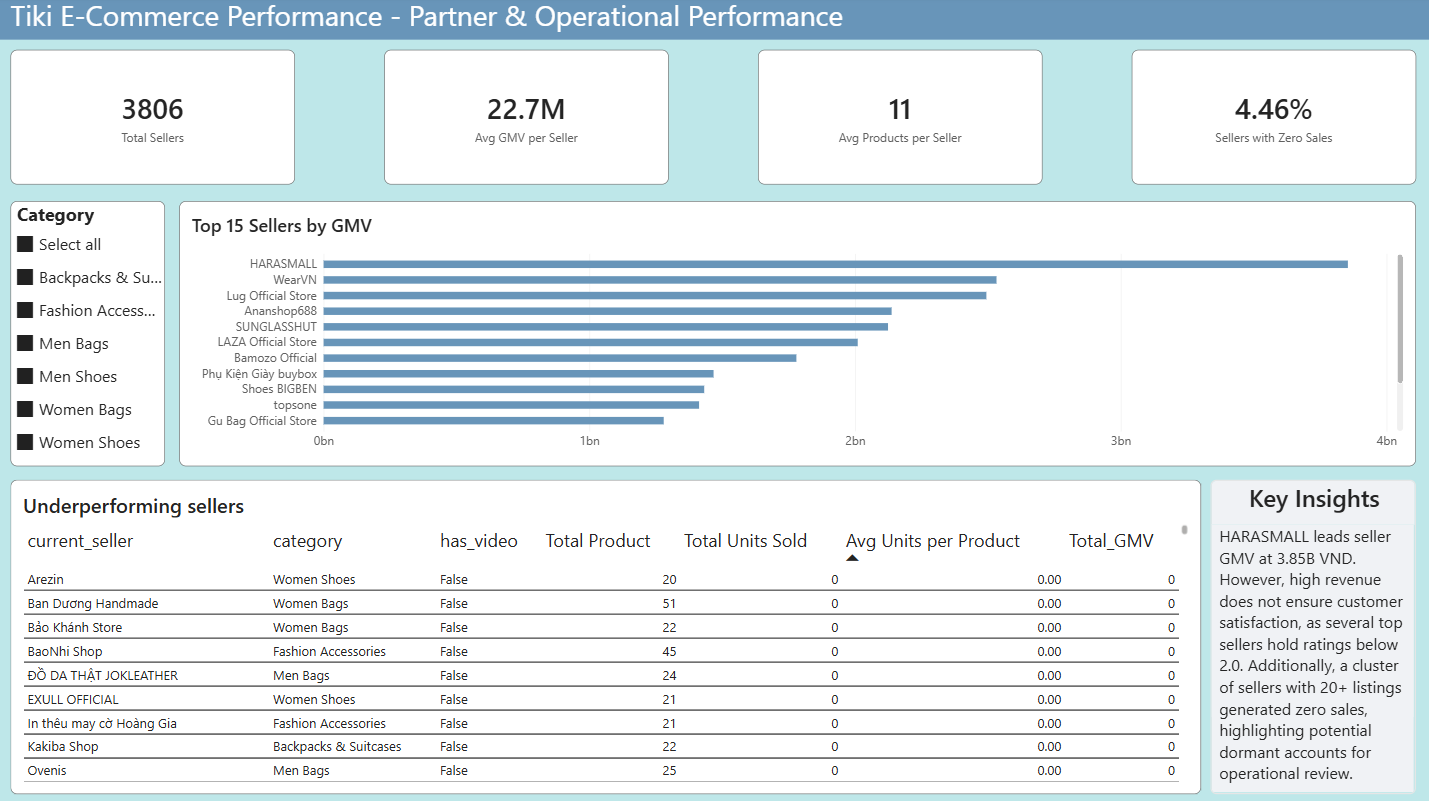

The page's visual inventory and layout, read from the dashboard file:
{"tool":"powerbi","page":{"name":"Partner & Operational Performance","canvas":[1920,1080],"ordinal":3},"visuals":[{"type":"shape","title":"Key Insights","box":[1620,646,274,420],"z":500},{"type":"shape","box":[0,0,1920,58],"z":1000},{"type":"textbox","box":[16,0,1200,72],"z":2000},{"type":"card","fields":{"Values":["tiki_products_cleaned.Top Seller GMV Share"]},"box":[1514,72,380,180],"z":3000},{"type":"card","fields":{"Values":["tiki_products_cleaned.Avg GMV per Seller"]},"box":[515.3,72,380,180],"z":4000},{"type":"card","fields":{"Values":["tiki_products_cleaned.Top Seller GMV"]},"box":[1014.7,72,380,180],"z":5000},{"type":"barChart","title":"Top 15 Sellers by GMV","fields":{"Category":["tiki_products_cleaned.current_seller"],"Y":["tiki_products_cleaned.Total_GMV"]},"box":[242,274,1652,354],"z":6000},{"type":"tableEx","title":"Underperforming sellers","fields":{"Values":["tiki_products_cleaned.current_seller","tiki_products_cleaned.category","tiki_products_cleaned.has_video","tiki_products_cleaned.Total Product","tiki_products_cleaned.Total Units Sold","Brand Summary.Avg Units per Product","tiki_products_cleaned.Total_GMV"]},"box":[16,646,1590,420],"z":7000},{"type":"slicer","fields":{"Values":["tiki_products_cleaned.category"]},"box":[16,274,206,354],"z":8000},{"type":"card","fields":{"Values":["Count(tiki_products_cleaned.current_seller)"]},"box":[16,72,380,180],"z":10000}]}

Visuals, with their boxes in screenshot pixels (x1, y1, x2, y2), scaled from the page's 1920x1080 canvas onto the 1429x801 screenshot:
"Key Insights" shape: <box>1206,479,1410,791</box>
shape: <box>0,0,1428,43</box>
textbox: <box>12,0,905,53</box>
card - tiki_products_cleaned.Top Seller GMV Share: <box>1127,53,1410,187</box>
card - tiki_products_cleaned.Avg GMV per Seller: <box>384,53,666,187</box>
card - tiki_products_cleaned.Top Seller GMV: <box>755,53,1038,187</box>
"Top 15 Sellers by GMV" barChart: <box>180,203,1410,466</box>
"Underperforming sellers" tableEx: <box>12,479,1195,791</box>
slicer - tiki_products_cleaned.category: <box>12,203,165,466</box>
card - Count(tiki_products_cleaned.current_seller): <box>12,53,295,187</box>
